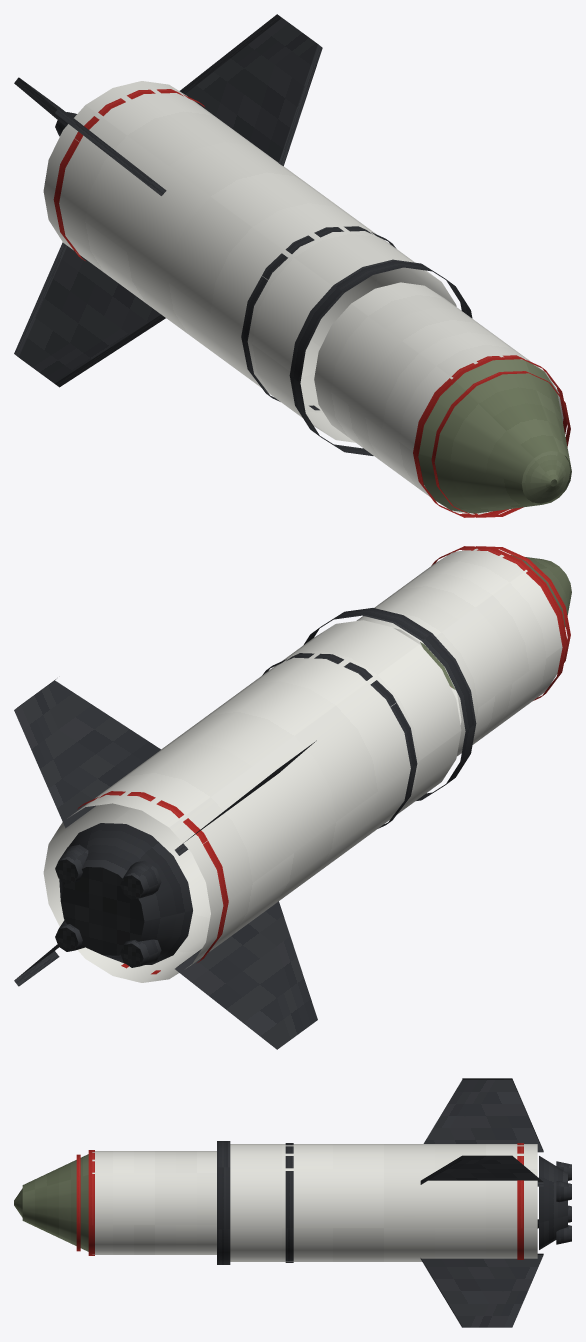
The model's file is missile_operational_he.glb.
The picture shows the model from 3 angles, top to bottom: view 1: azimuth 30°, elevation 25°; view 2: azimuth 150°, elevation 25°; view 3: azimuth 270°, elevation 25°; orthographic projection. The views are drawn at different scales.
Visible parts, largest first — view 1: body; view 2: body; view 3: body.
Part boxes in pixels (box(x1,y1,x2,y2)): body: box(14, 14, 571, 517); body: box(14, 546, 571, 1049); body: box(14, 1078, 571, 1327).
Bounding box in the file's own units: 1.44 × 1.44 × 4.23.
Materials: 1 (1 with a texture image).
